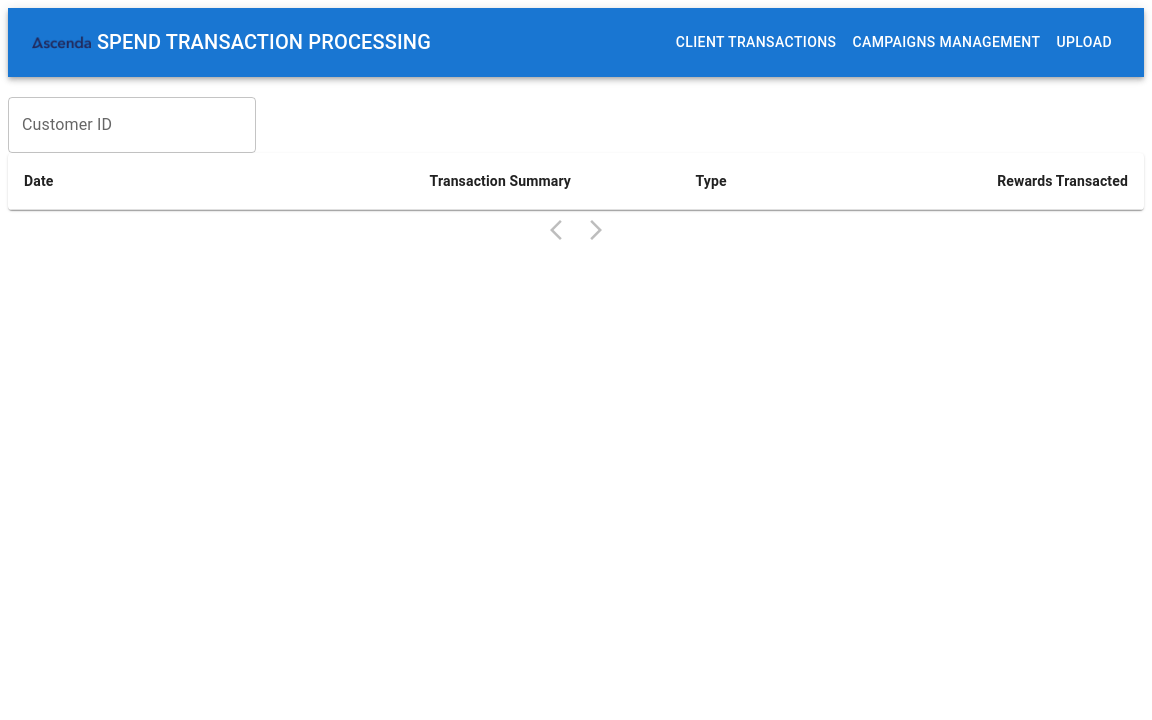
Test Upload page › Test Upload User File
Expected: the text "SPEND TRANSACTION PROCESSING" is shown, [32,13,431,72]
Step 1. Click the button "Upload" → (1084, 43), box [1048,24,1120,61]
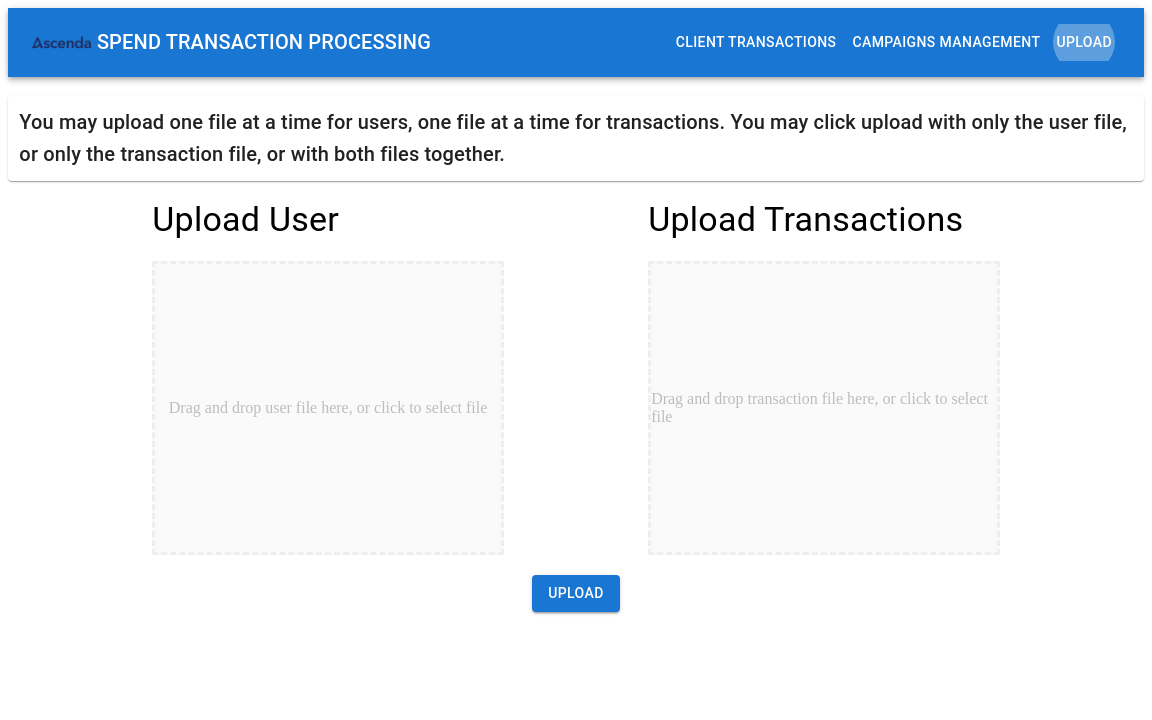
Expected: the heading "Upload User" is shown, [152,199,339,239]
Expected: the text "Drag and drop user file here, or click to select file" is shown, [169,399,487,416]
